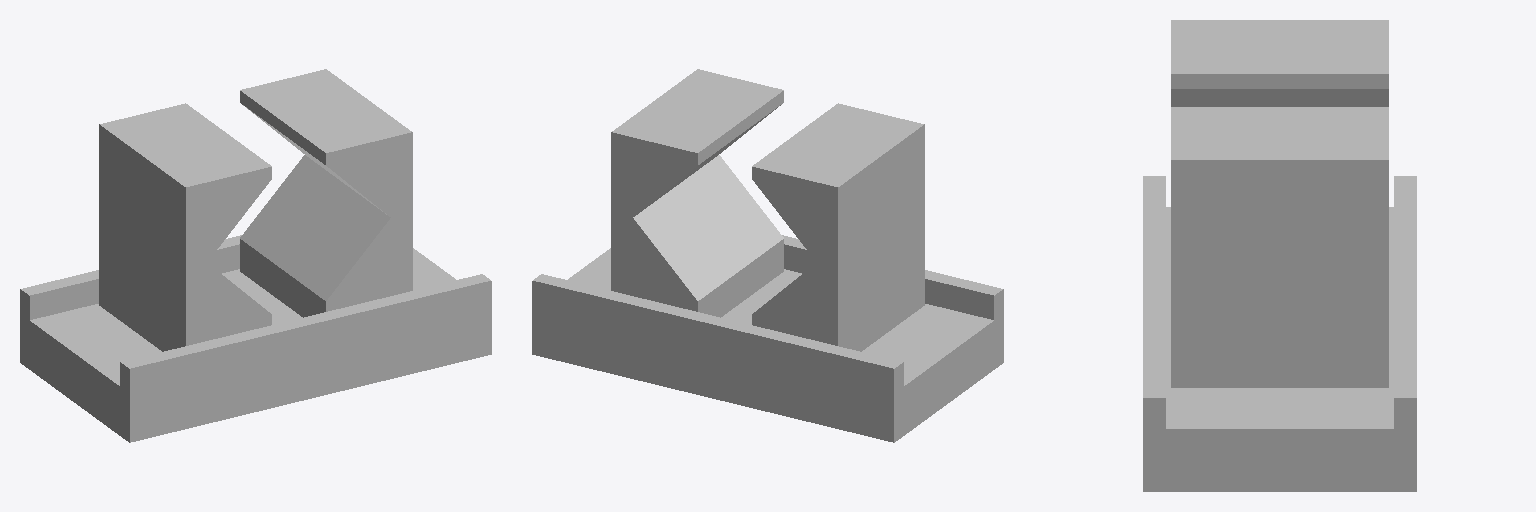
robot.urdf — gripper:
<?xml version="1.0" encoding="utf-8"?>
<robot name="gripper">
  <material name="color">
    <color rgba="0.8 0.8 0.8 1"/>
  </material>

  <link name="base_link"/>

  <joint name="base_link_joint" type="fixed">
    <origin xyz="0 0 0" rpy="0 0 0"/>
    <parent link="base_link"/>
    <child link="palm"/>
  </joint>

  <link name="palm">
    <inertial>
      <origin xyz="0 0 -0.00576923077" rpy="0 0 0"/>
      <mass value="0.75"/>
      <inertia ixx="5.79857002e-05" ixy="0" ixz="0" iyy="0.000180678008" iyz="0" izz="0.000229974359"/>
    </inertial>
    <visual name="palm_plate">
      <origin xyz="0 0 -0.012" rpy="0 0 0"/>
      <geometry>
        <mesh filename="meshes/gripper_palm_plate.stl" scale="1 1 1"/>
      </geometry>
      <material name="color"/>
    </visual>
    <visual name="guide_neg">
      <origin xyz="0 -0.022 0" rpy="0 0 0"/>
      <geometry>
        <mesh filename="meshes/gripper_guide_neg.stl" scale="1 1 1"/>
      </geometry>
      <material name="color"/>
    </visual>
    <visual name="guide_pos">
      <origin xyz="0 0.022 0" rpy="0 0 0"/>
      <geometry>
        <mesh filename="meshes/gripper_guide_neg.stl" scale="1 1 1"/>
      </geometry>
      <material name="color"/>
    </visual>
    <collision name="palm_plate">
      <origin xyz="0 0 -0.012" rpy="0 0 0"/>
      <geometry>
        <mesh filename="meshes/gripper_palm_plate.stl" scale="1 1 1"/>
      </geometry>
    </collision>
    <collision name="guide_neg">
      <origin xyz="0 -0.022 0" rpy="0 0 0"/>
      <geometry>
        <mesh filename="meshes/gripper_guide_neg.stl" scale="1 1 1"/>
      </geometry>
    </collision>
    <collision name="guide_pos">
      <origin xyz="0 0.022 0" rpy="0 0 0"/>
      <geometry>
        <mesh filename="meshes/gripper_guide_neg.stl" scale="1 1 1"/>
      </geometry>
    </collision>
  </link>

  <joint name="right" type="prismatic">
    <origin xyz="0.0178345238 0 0.0025" rpy="0 -1.57079633 -3.14159265"/>
    <parent link="palm"/>
    <child link="finger_right"/>
    <axis xyz="0 0 1"/>
    <limit lower="-0.0068345" upper="0.012" effort="140" velocity="0.2"/>
  </joint>

  <link name="finger_right">
    <inertial>
      <origin xyz="0.0186101733 -2.06863179e-05 0.00216259031" rpy="0 0 0"/>
      <mass value="0.03"/>
      <inertia ixx="4.6282176e-06" ixy="-1.13941314e-08" ixz="-2.19924192e-07" iyy="7.08915022e-06" iyz="-1.34208092e-09" izz="9.69829583e-06"/>
    </inertial>
    <visual name="finger_right">
      <origin xyz="-0.0025 0 0" rpy="0 -1.57079633 -3.14159265"/>
      <geometry>
        <mesh filename="meshes/gripper_finger_right.stl" scale="1 1 1"/>
      </geometry>
      <material name="color"/>
    </visual>
    <collision name="finger_right">
      <origin xyz="-0.0025 0 0" rpy="0 -1.57079633 -3.14159265"/>
      <geometry>
        <mesh filename="meshes/gripper_finger_right.stl" scale="1 1 1"/>
      </geometry>
    </collision>
  </link>

  <joint name="left" type="prismatic">
    <origin xyz="-0.0178345238 0 0.0025" rpy="0 1.57079633 -3.14159265"/>
    <parent link="palm"/>
    <child link="finger_left"/>
    <axis xyz="0 0 1"/>
    <limit lower="-0.0068345" upper="0.012" effort="140" velocity="0.2"/>
    <mimic joint="right" multiplier="1" offset="0"/>
  </joint>

  <link name="finger_left">
    <inertial>
      <origin xyz="-0.0186101733 -2.06863179e-05 0.00216259031" rpy="0 0 0"/>
      <mass value="0.03"/>
      <inertia ixx="4.6282176e-06" ixy="1.13941314e-08" ixz="2.19924192e-07" iyy="7.08915022e-06" iyz="-1.34208092e-09" izz="9.69829583e-06"/>
    </inertial>
    <visual name="finger_left">
      <origin xyz="0.0025 0 0" rpy="0 1.57079633 -3.14159265"/>
      <geometry>
        <mesh filename="meshes/gripper_finger_left.stl" scale="1 1 1"/>
      </geometry>
      <material name="color"/>
    </visual>
    <collision name="finger_left">
      <origin xyz="0.0025 0 0" rpy="0 1.57079633 -3.14159265"/>
      <geometry>
        <mesh filename="meshes/gripper_finger_left.stl" scale="1 1 1"/>
      </geometry>
    </collision>
  </link>
</robot>

--- Render facts (derived) ---
3 views of the same robot in one strip: view 1: azimuth 30°, elevation 25°; view 2: azimuth 150°, elevation 25°; view 3: azimuth 270°, elevation 25° (orthographic).
Robot: gripper — 4 links, 3 joints (2 prismatic, 1 fixed); root link base_link; default pose: every joint at zero.
Visible links, largest first — view 1: palm, finger_left, finger_right; view 2: palm, finger_left, finger_right; view 3: finger_right, palm, finger_left.
Link boxes in pixels (x1,y1,x2,y2): palm: (20,235,491,442); finger_left: (99,103,271,351); finger_right: (240,69,412,317); palm: (532,235,1003,442); finger_left: (752,103,924,351); finger_right: (611,69,783,317); finger_right: (1171,107,1388,387); palm: (1143,176,1416,491); finger_left: (1171,20,1388,106).
Bounding box of the posed robot: 0.092 × 0.048 × 0.056 m (x, y, z).
Meshes: 4 distinct files referenced, 5 mesh visuals loaded (4 binary STL).
